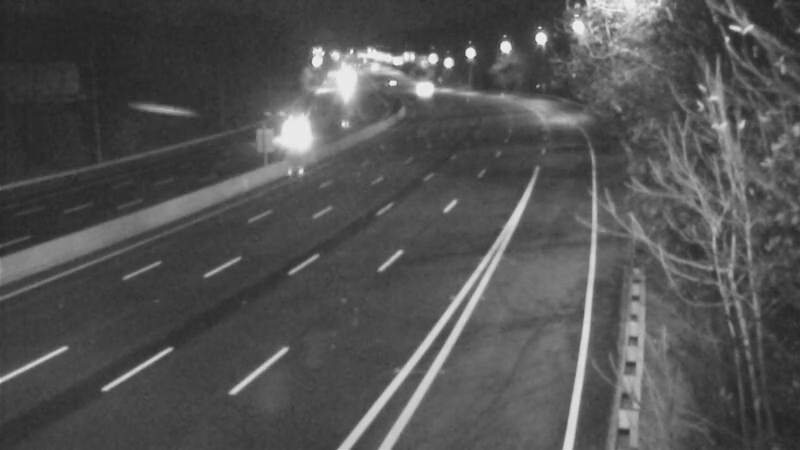vehicle: (396, 63, 446, 113), (268, 110, 318, 160), (321, 63, 371, 113)
